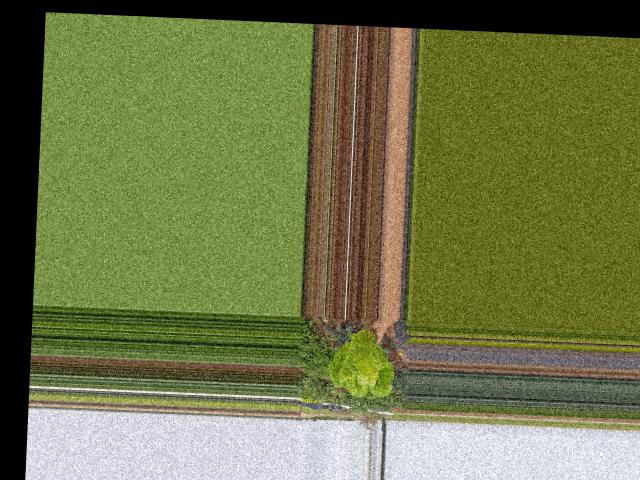lettuce: (325, 322, 399, 399)
